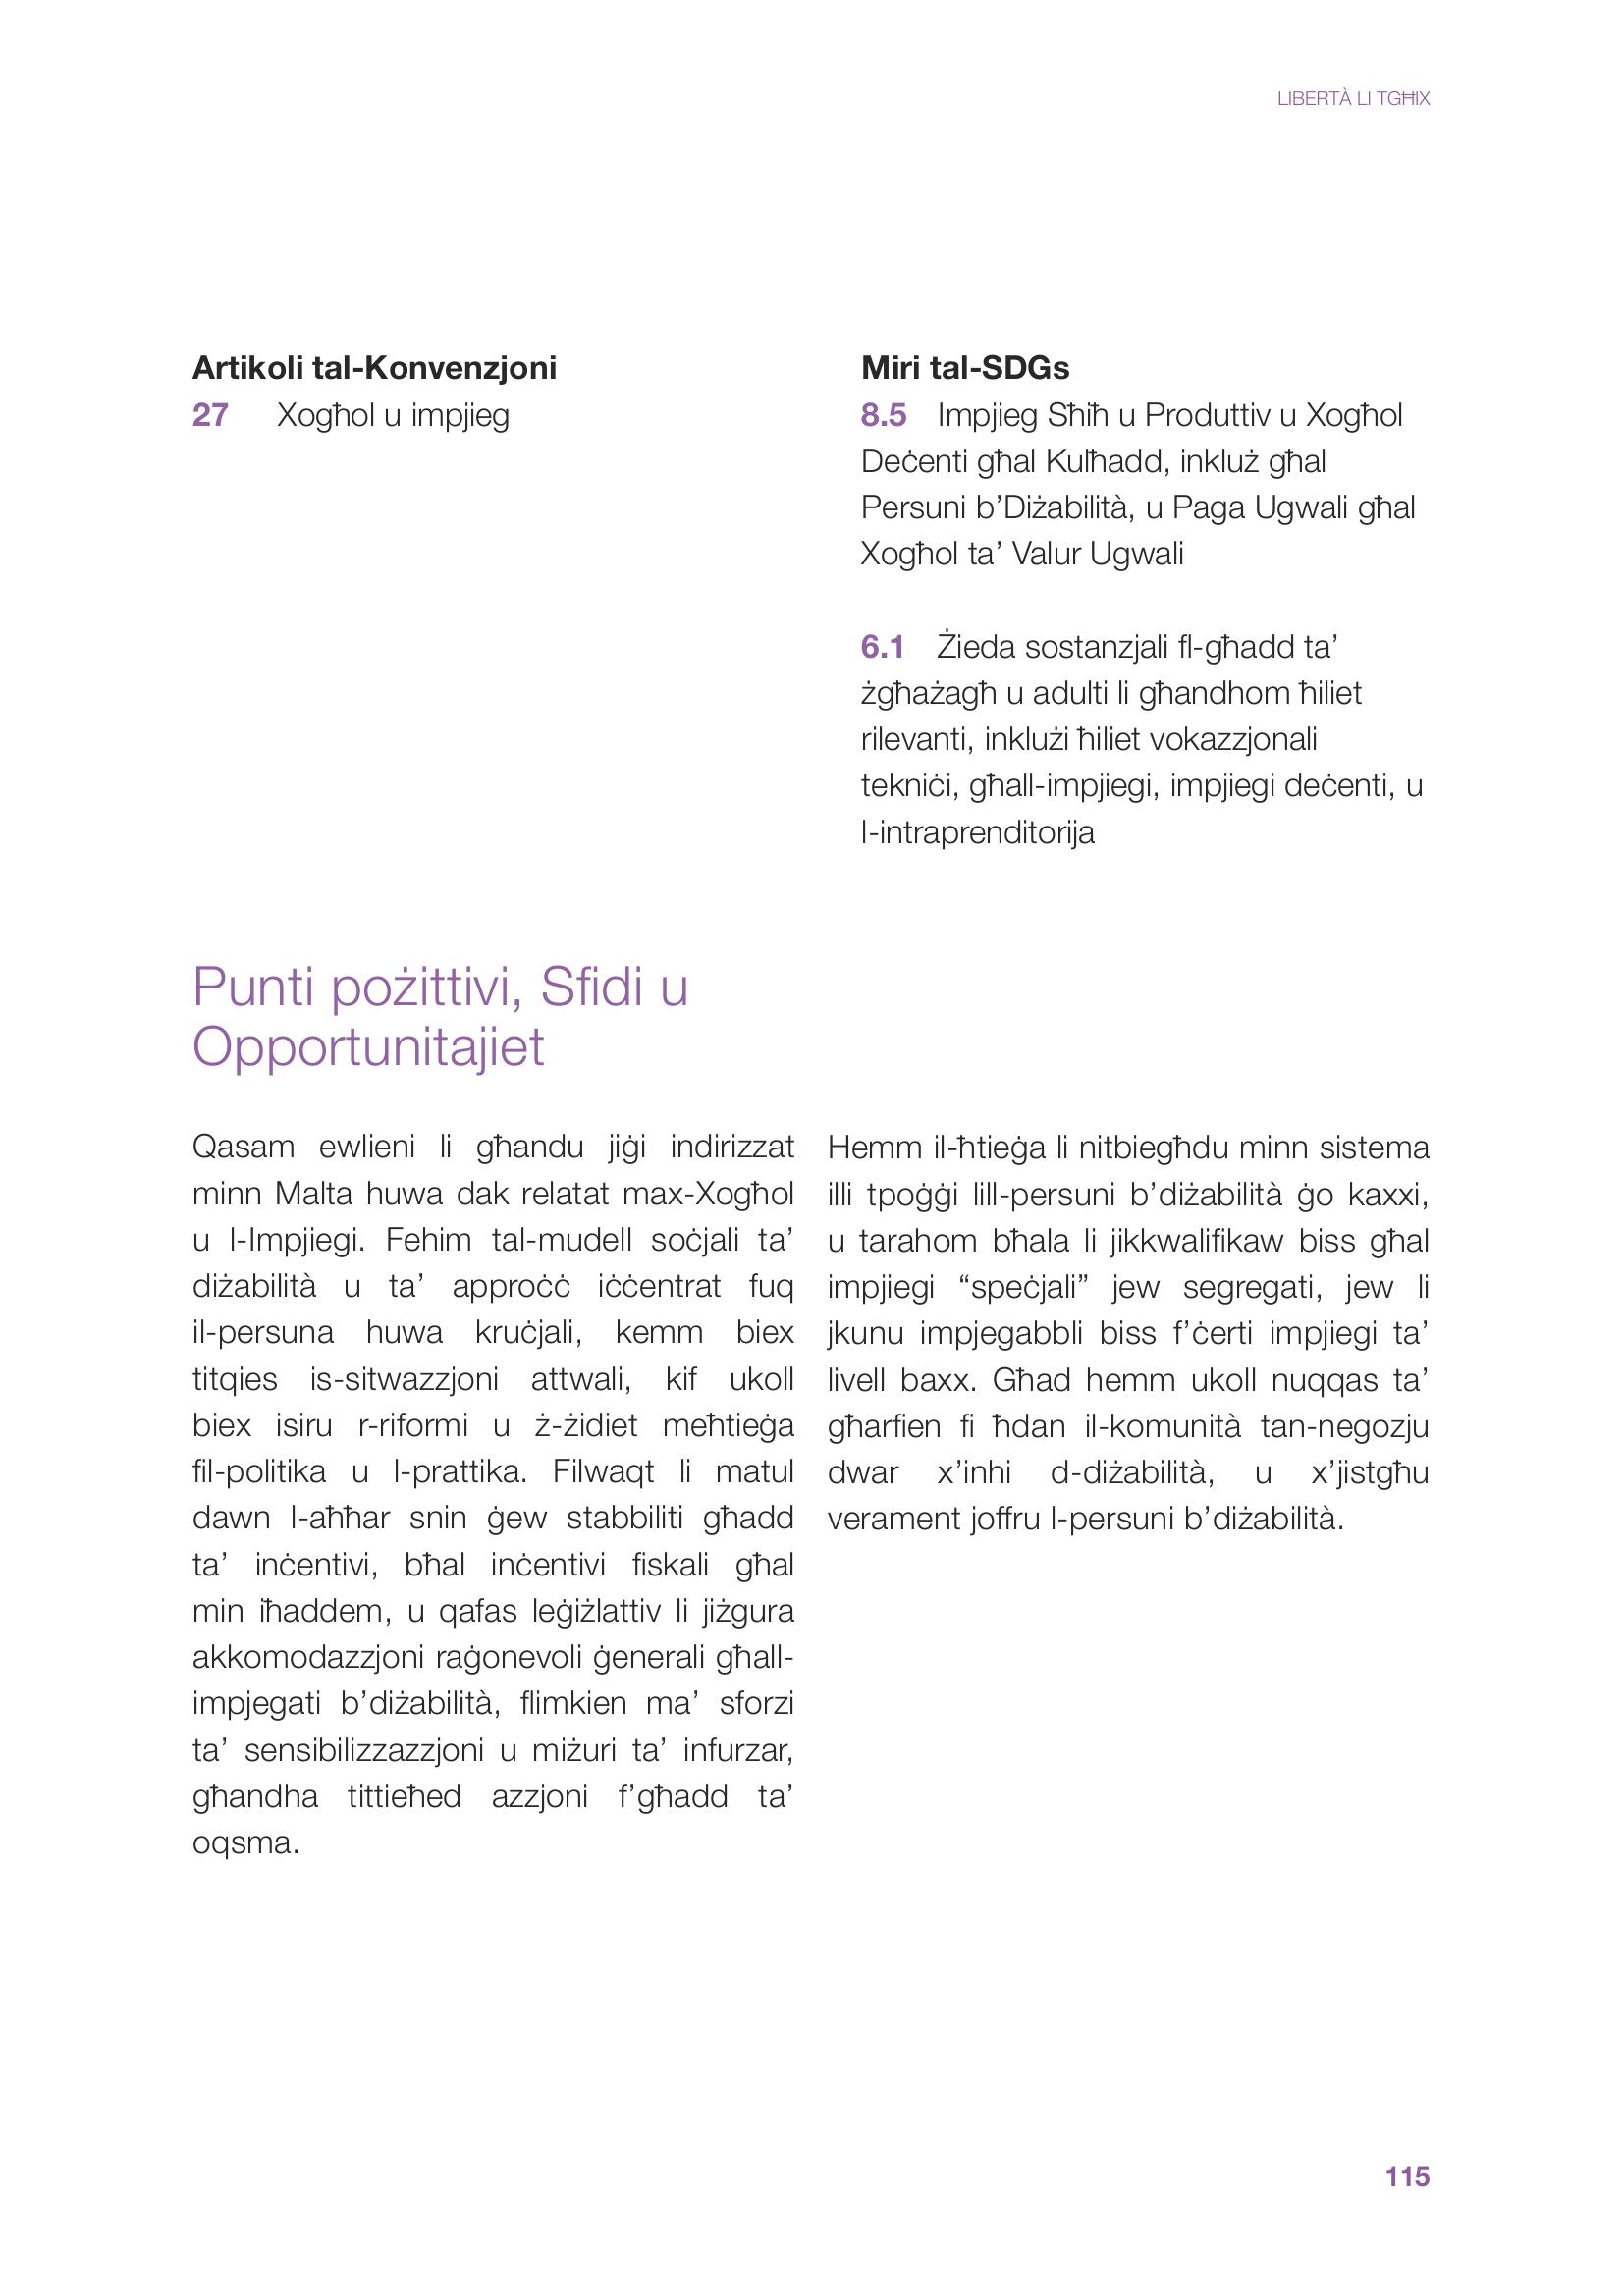text: (169, 935, 814, 1964), (816, 1101, 1464, 1578)
